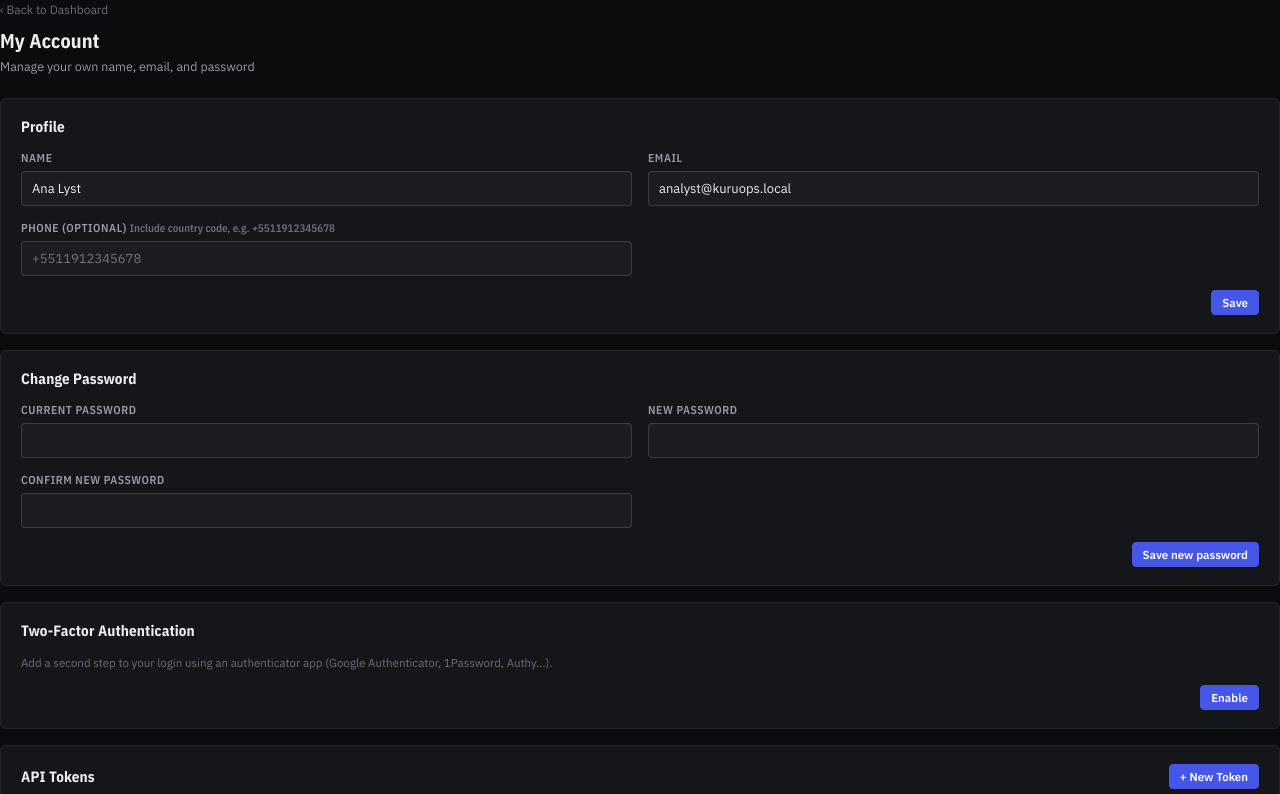
Test: ProfilePage › a name-only change PUTs the profile without requiring a password
Replace the text in the field labelled "Name" with "New Name" at point(326, 188), box [21, 171, 632, 206]
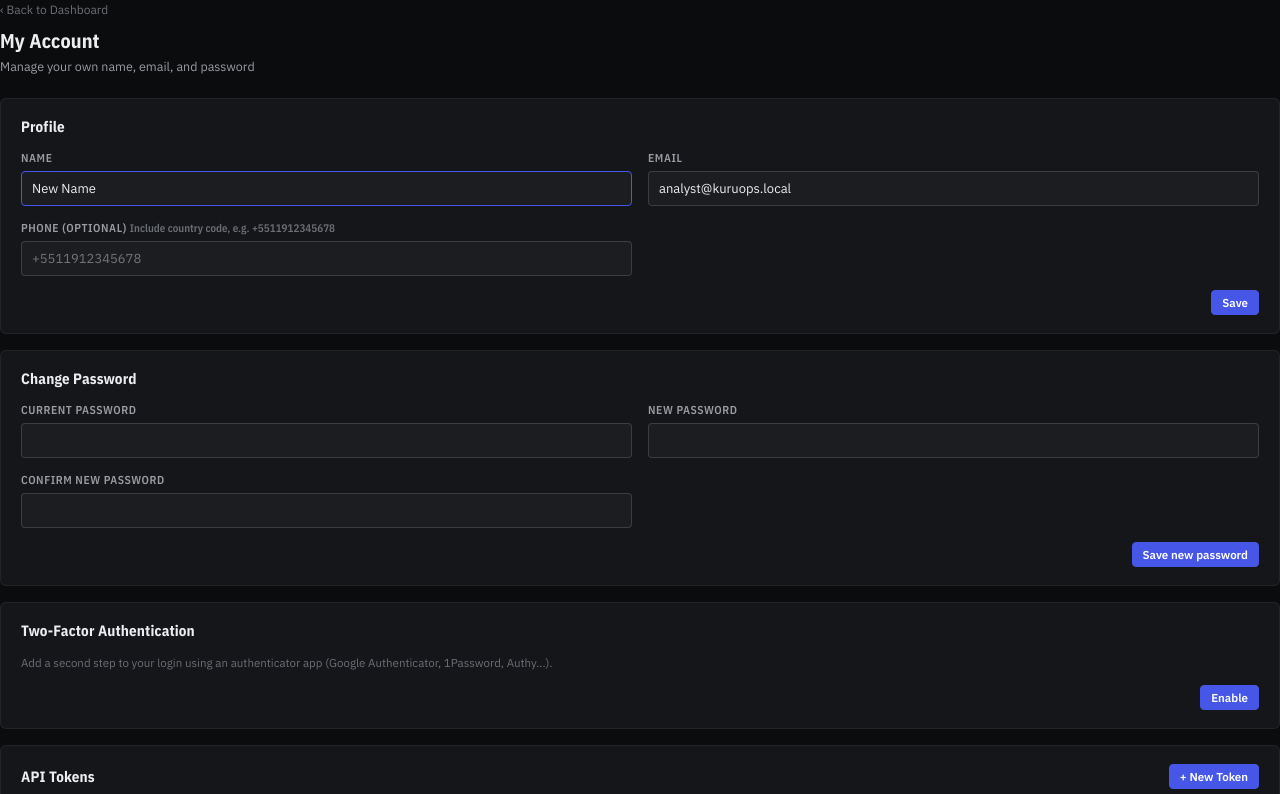
Click the button "Save" at point(1235, 302), box [1211, 290, 1259, 315]
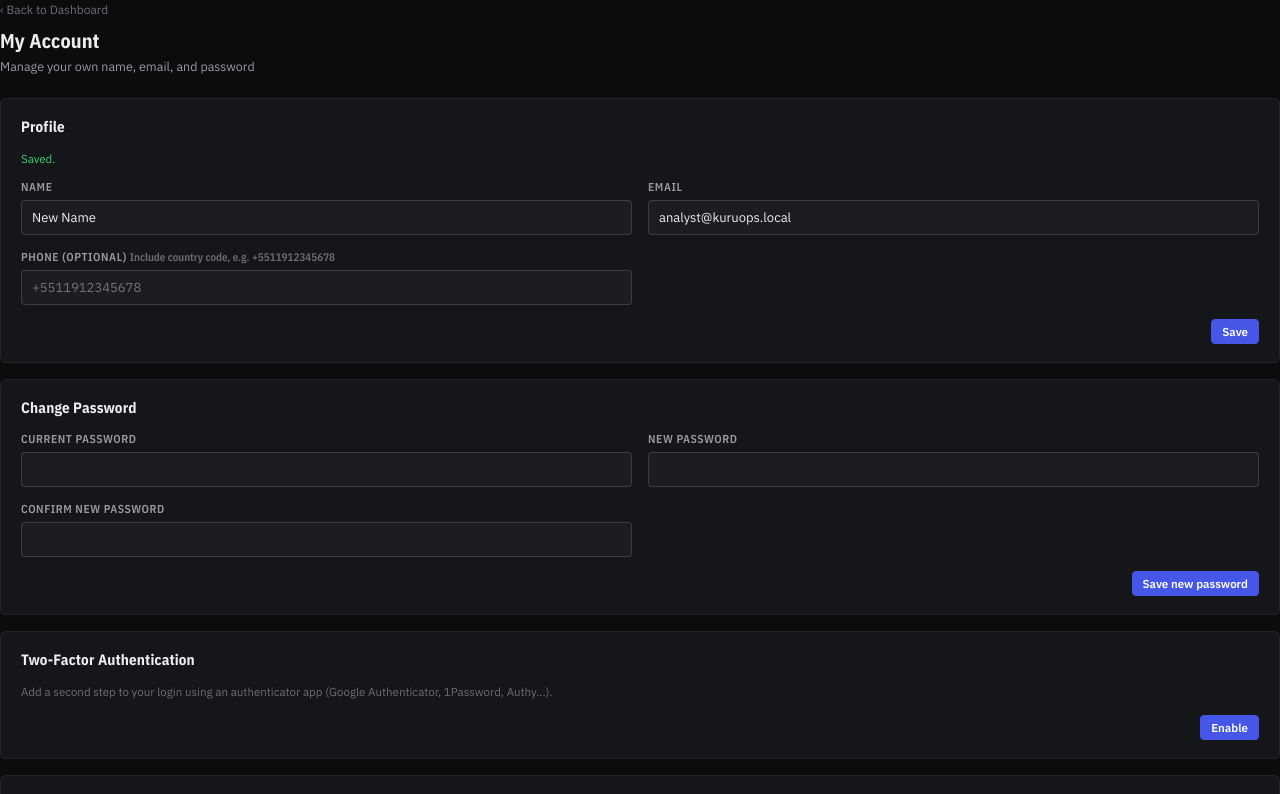
Expected: the text "Saved." is shown, [21, 151, 55, 166]
